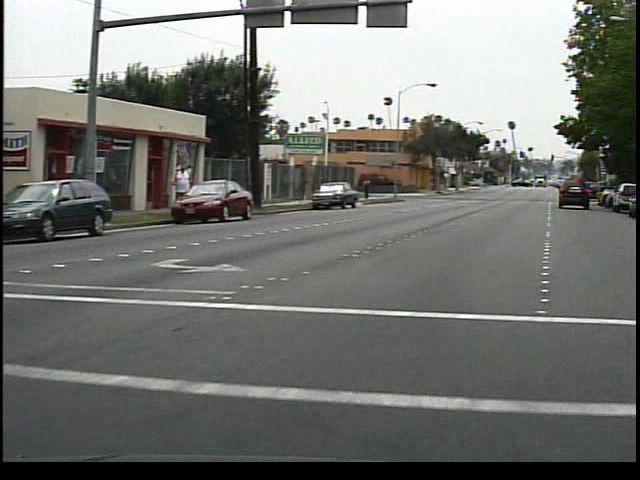person: (174, 158, 202, 219), (365, 173, 380, 202)
